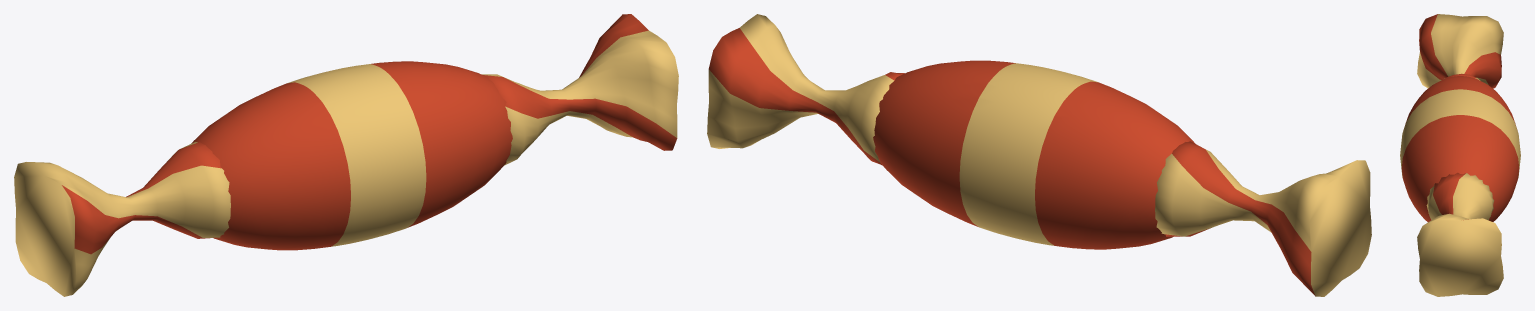
File: wrapped_candy.glb
3 renders of one model, left to right at view 1: azimuth 30°, elevation 25°; view 2: azimuth 150°, elevation 25°; view 3: azimuth 270°, elevation 25°, orthographic. The views are drawn at different scales.
Parts seen in each view (by area): view 1: WrappedSweet, TwistedEnd_L, TwistedEnd_R; view 2: WrappedSweet, TwistedEnd_L, TwistedEnd_R; view 3: WrappedSweet, TwistedEnd_R, TwistedEnd_L.
Part boxes in pixels (x1=…): WrappedSweet: x1=191, y1=61, x2=512, y2=250; TwistedEnd_L: x1=14, y1=142, x2=230, y2=296; TwistedEnd_R: x1=482, y1=14, x2=678, y2=165; WrappedSweet: x1=873, y1=60, x2=1195, y2=249; TwistedEnd_L: x1=1155, y1=141, x2=1371, y2=296; TwistedEnd_R: x1=707, y1=14, x2=904, y2=165; WrappedSweet: x1=1400, y1=76, x2=1520, y2=221; TwistedEnd_R: x1=1417, y1=172, x2=1503, y2=296; TwistedEnd_L: x1=1417, y1=14, x2=1503, y2=88.
Size of the model in its own units: 1.52 by 0.38 by 0.38.
